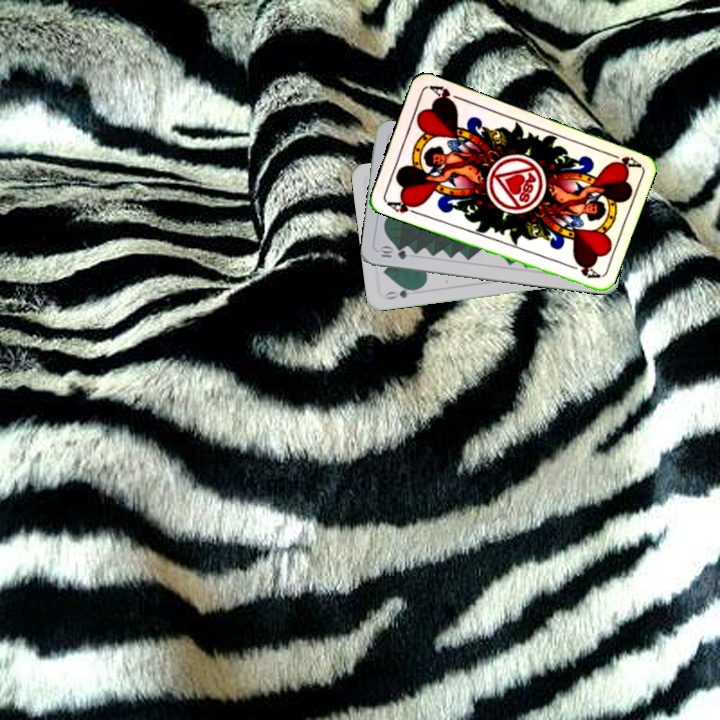G10: (375, 244, 409, 262)
GO: (381, 283, 421, 302)
HA: (602, 148, 642, 171), (383, 195, 422, 217)
